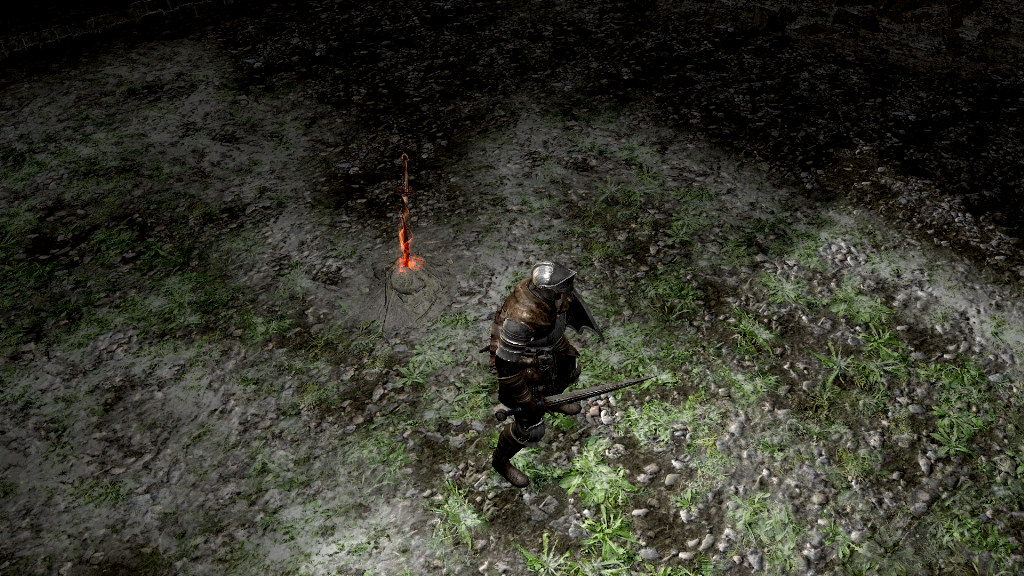bonfire: (381, 148, 438, 293)
player: (488, 258, 660, 491)
